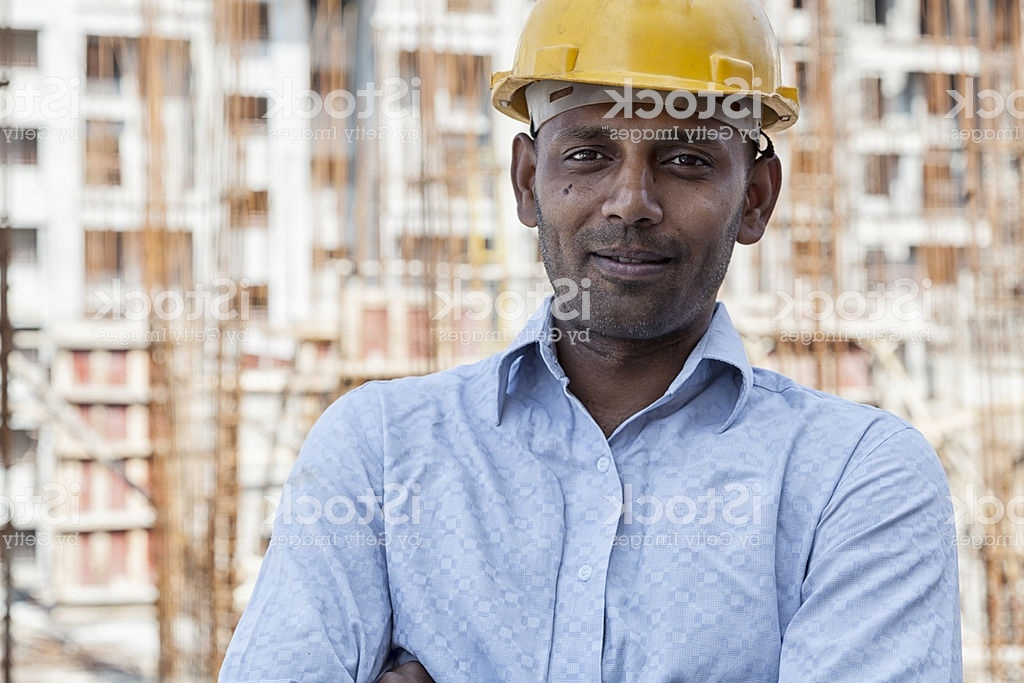NoJacket: (314, 2, 875, 683)
